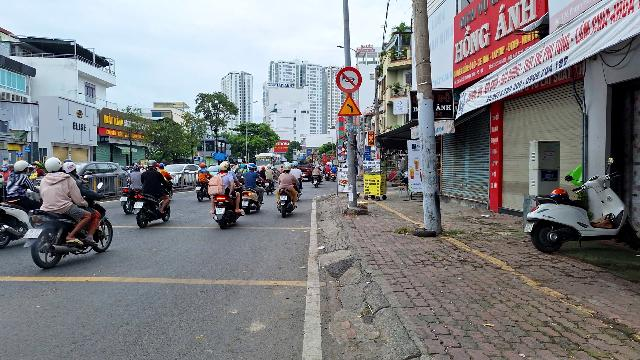cam-bop-coi: (336, 66, 362, 93)
cho-ngoat-nguy-hiem-ben-trai: (337, 94, 362, 116)
